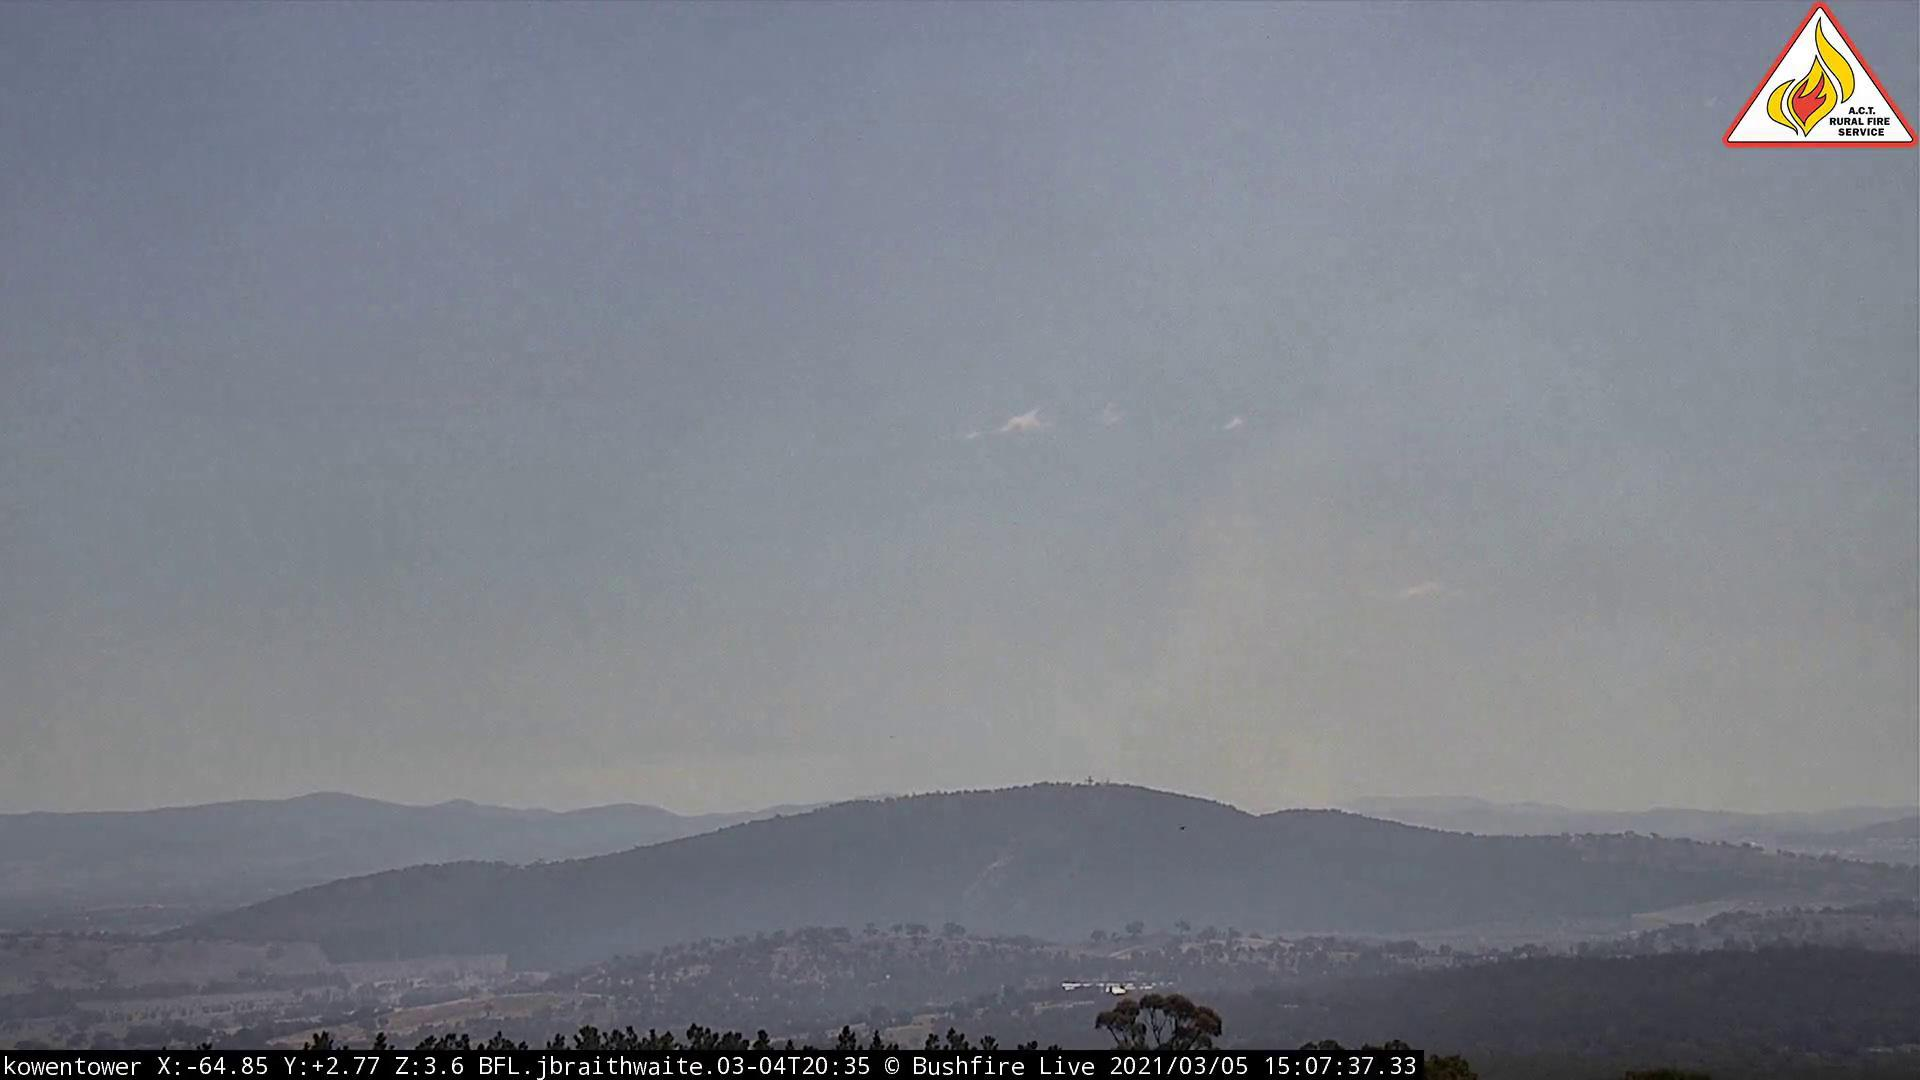Smoke: (816, 351, 1644, 822)
